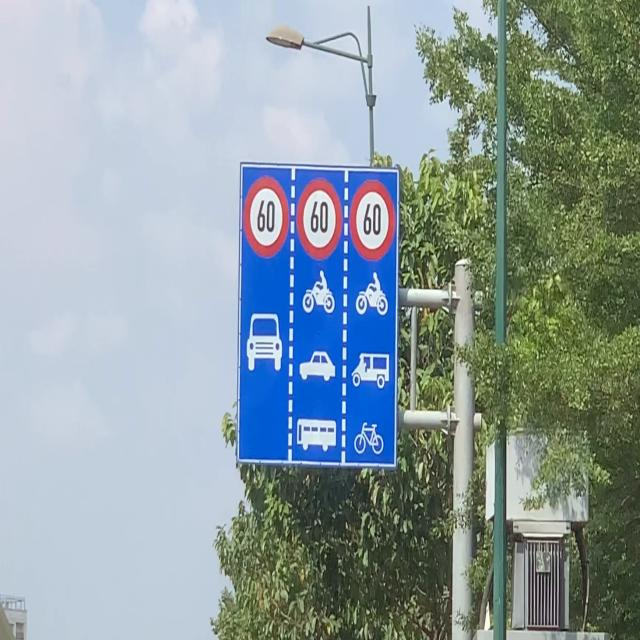Toc do toi da: (297, 177, 343, 260), (243, 175, 289, 258), (350, 179, 396, 261)
